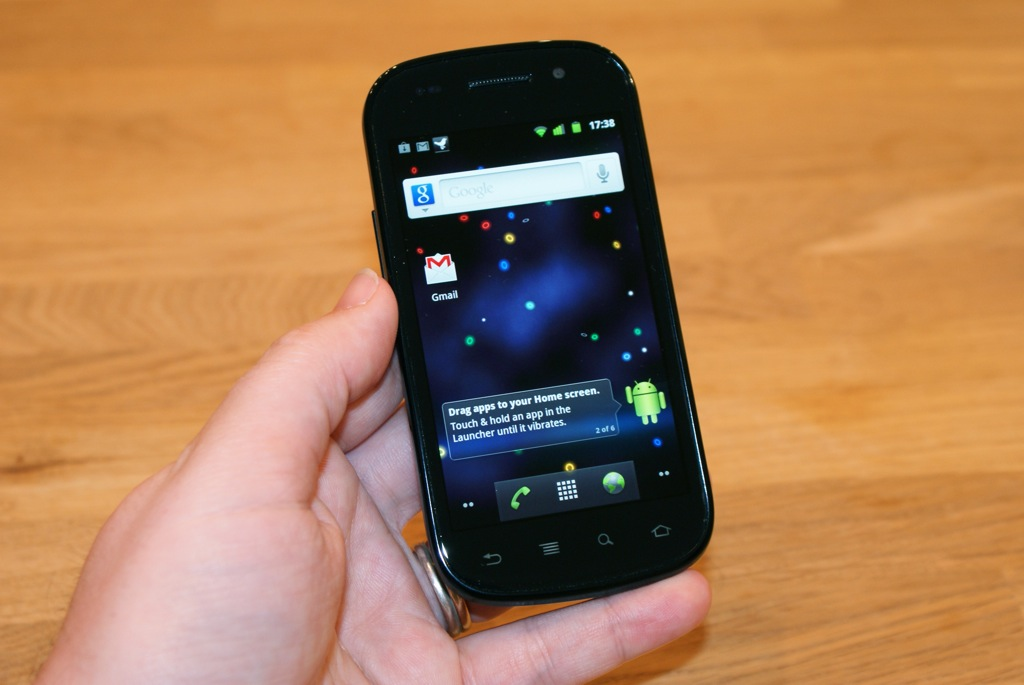smartphone: (360, 39, 716, 606)
